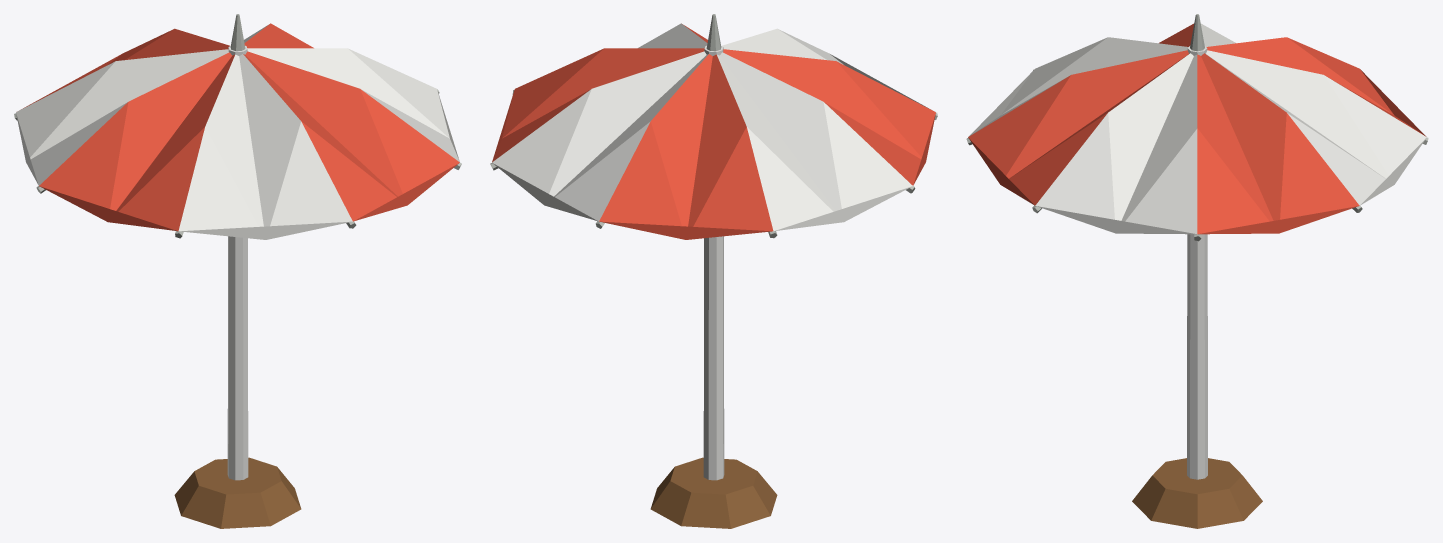
The model's file is sombrilla.glb.
3 renders of one model, left to right at view 1: azimuth 30°, elevation 25°; view 2: azimuth 150°, elevation 25°; view 3: azimuth 270°, elevation 25°, orthographic.
Visible parts, largest first — view 1: toldo_b, toldo_a, base, poste; view 2: toldo_a, toldo_b, base, poste; view 3: toldo_a, toldo_b, base, poste.
Boxes of the visible parts, x1,y1,x2,y2 form: toldo_b: (16, 24, 459, 239); toldo_a: (21, 23, 459, 231); base: (174, 457, 301, 528); poste: (227, 45, 248, 480); toldo_a: (492, 24, 935, 239); toldo_b: (492, 23, 930, 231); base: (650, 457, 777, 528); poste: (703, 45, 724, 480); toldo_a: (968, 23, 1426, 234); toldo_b: (968, 23, 1426, 234); base: (1132, 458, 1262, 528); poste: (1187, 46, 1207, 479).
Bounding box in the file's own units: 1.13 × 1.31 × 1.13.
